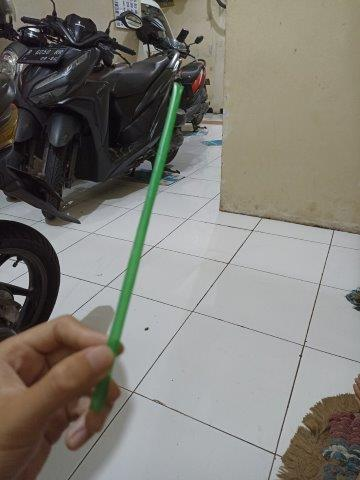sedotan: (90, 85, 183, 412)
